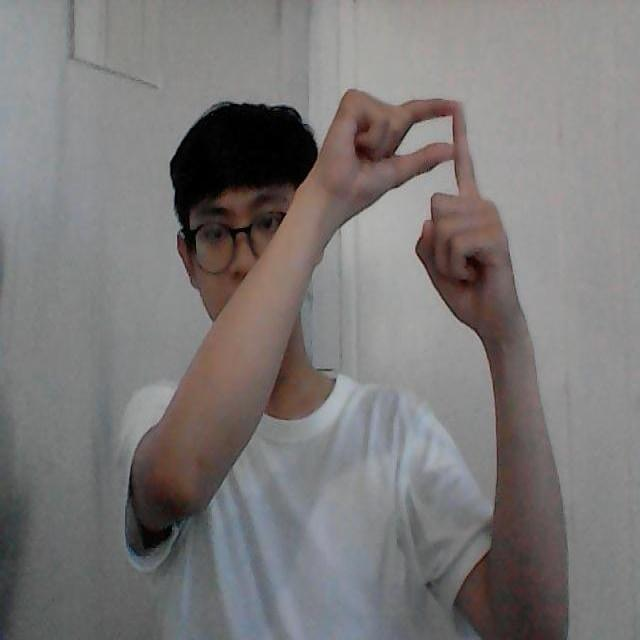P: (374, 86, 510, 294)
